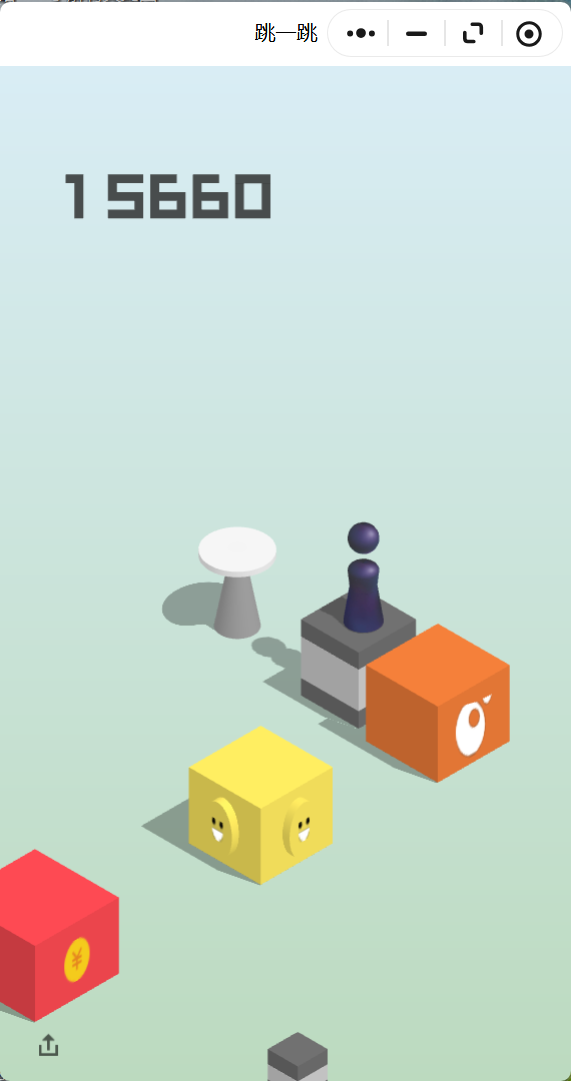piece: (348, 522, 380, 629)
target: (199, 527, 277, 570)
